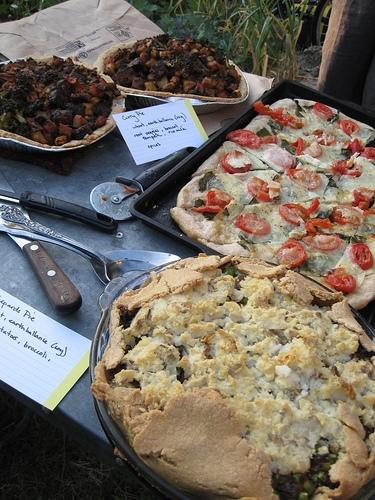tomato: (272, 237, 308, 267), (282, 197, 320, 221), (236, 213, 272, 236), (325, 267, 356, 293), (286, 169, 322, 190), (222, 152, 252, 175), (331, 205, 364, 225), (226, 129, 260, 148), (302, 234, 342, 250), (253, 100, 284, 120), (352, 243, 374, 271), (267, 147, 294, 169), (270, 113, 304, 129), (352, 188, 374, 211), (304, 218, 334, 233), (256, 182, 277, 202), (206, 191, 229, 208), (247, 176, 264, 198), (312, 129, 334, 146), (300, 141, 322, 157), (312, 103, 332, 120), (338, 120, 359, 136), (332, 159, 350, 175), (290, 137, 304, 156), (359, 147, 375, 160), (351, 138, 363, 154), (260, 136, 278, 145), (348, 172, 362, 177)
